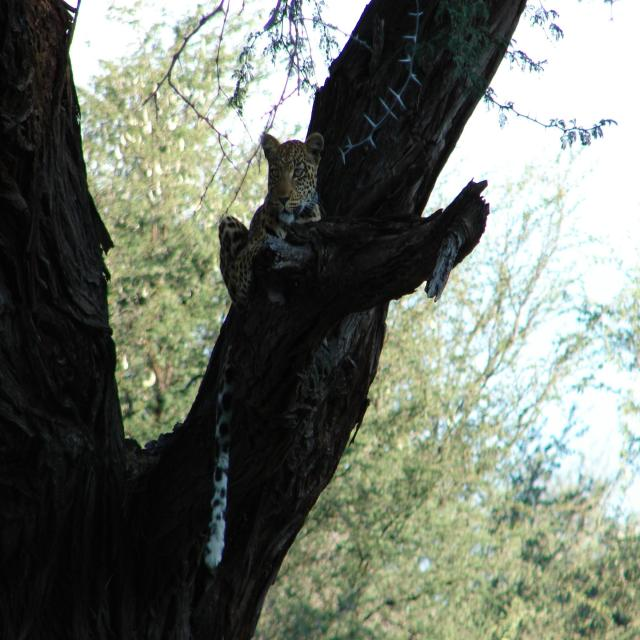Leopard: (201, 129, 326, 575)
